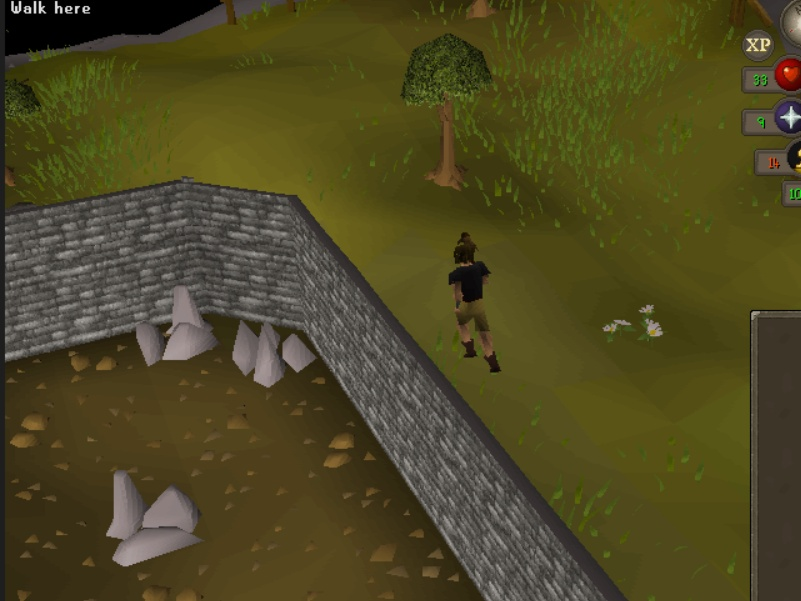silver: (103, 465, 210, 575), (131, 280, 221, 373), (229, 303, 319, 396)
